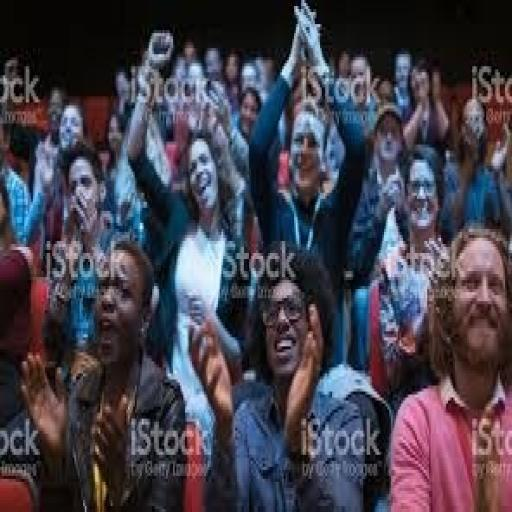clapping: (218, 29, 381, 330), (13, 228, 173, 512), (384, 223, 510, 509), (178, 250, 328, 446)
